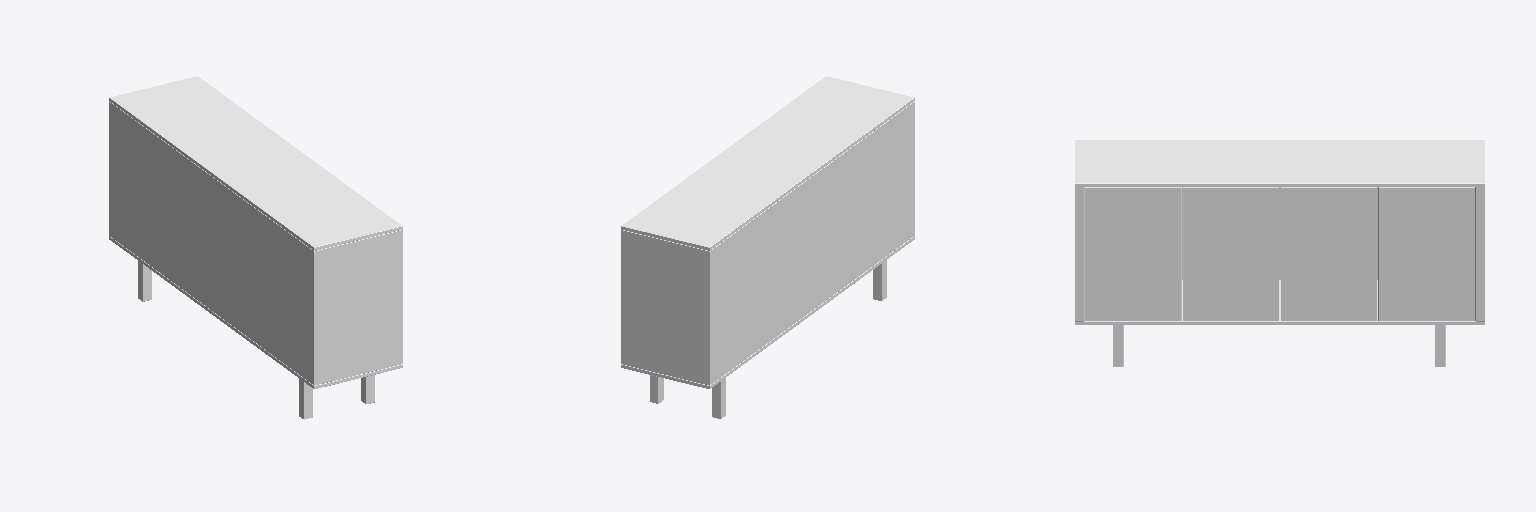
File: sideboard.obj
3 renders of one model, left to right at view 1: azimuth 30°, elevation 25°; view 2: azimuth 150°, elevation 25°; view 3: azimuth 270°, elevation 25°, orthographic.
Parts seen in each view (by area): view 1: sideboard; view 2: sideboard; view 3: sideboard.
Boxes of the visible parts, <box> form: sideboard: <box>109,76,402,419</box>; sideboard: <box>621,76,914,418</box>; sideboard: <box>1075,140,1484,366</box>.
Bounding box in the file's own units: 0.5844 × 1.18 × 2.34.